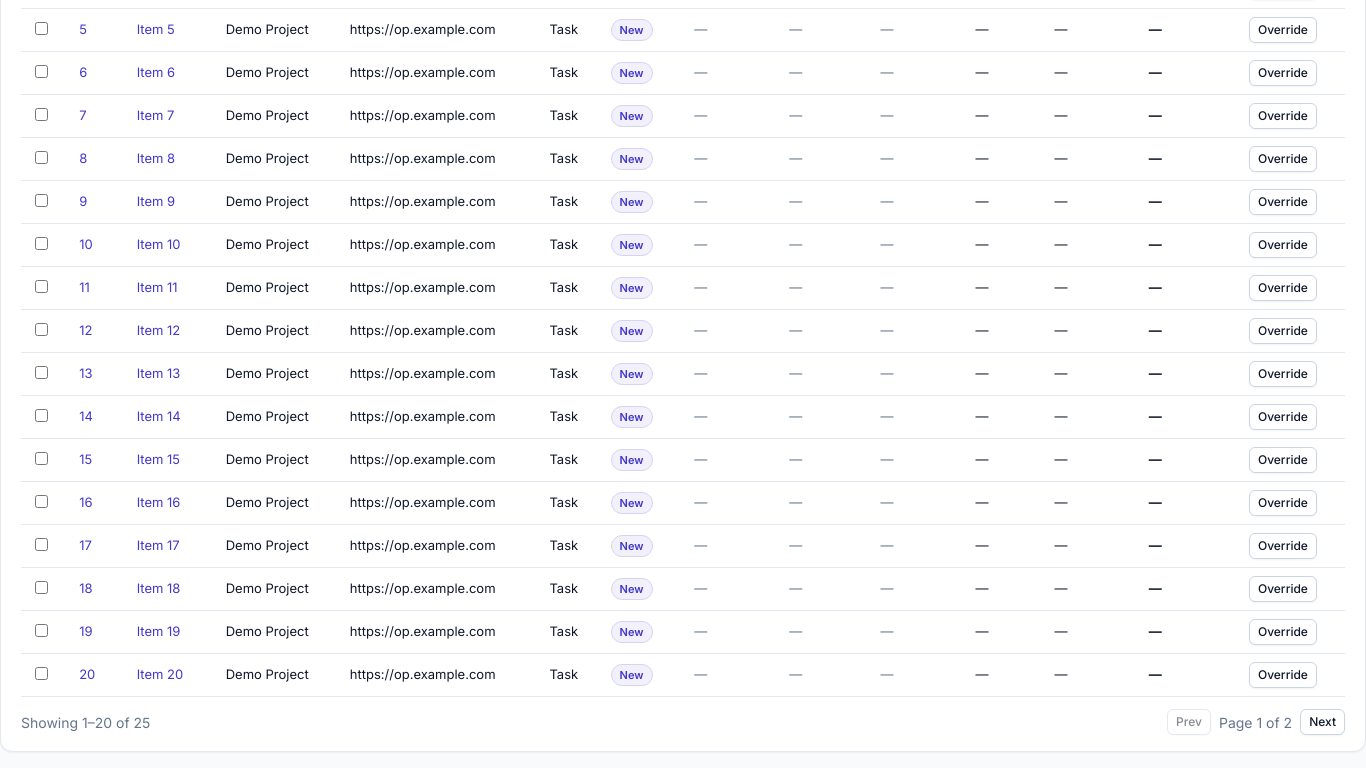
Test: BacklogScreen › changes the page size and resets to page 1
(page scrolled)
// Move off page 1 first.
Click the button with aria-label "Next page". click: [1323, 722]
box: x1=1300 y1=709 x2=1345 y2=735
(page scrolled)
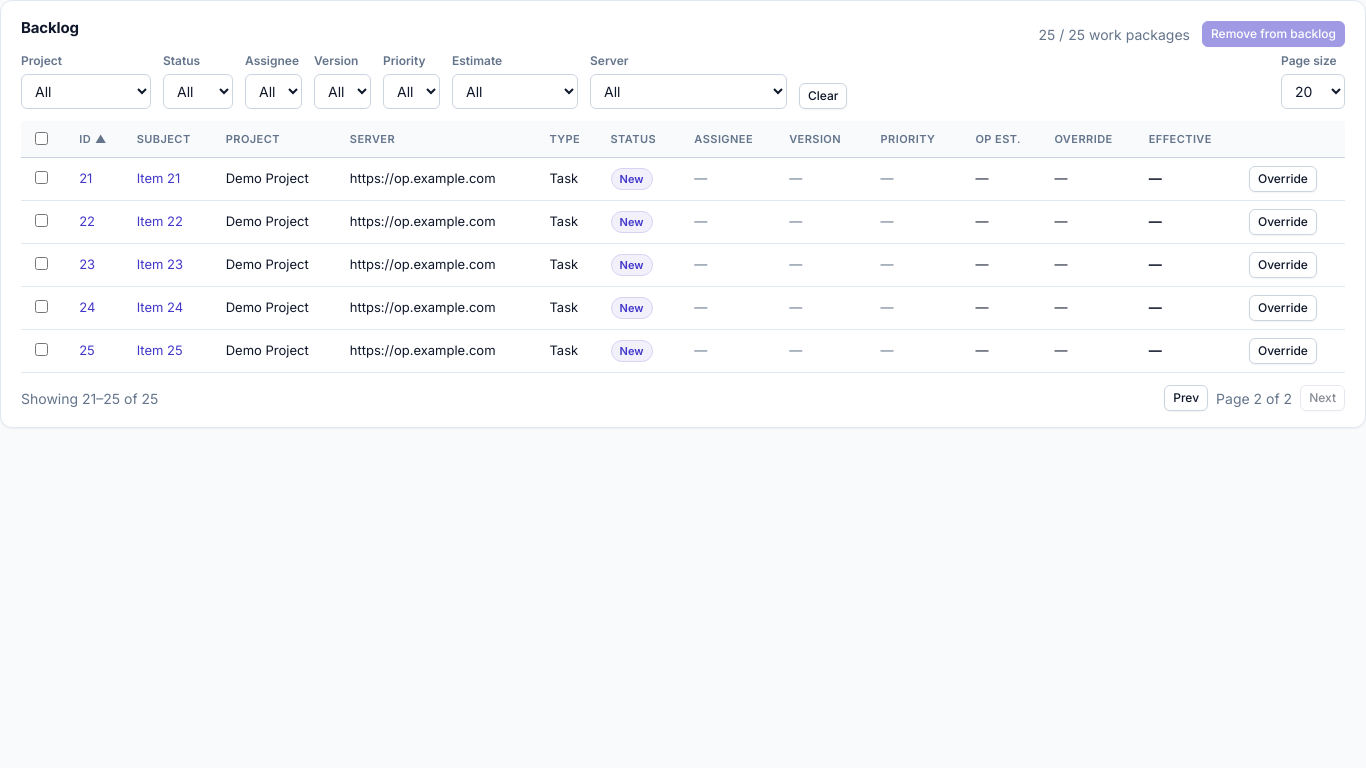
Expected: the text named "page indicator" reads "Page 2 of 2", x1=1216 y1=388 x2=1292 y2=408
Select "5" in the dropdown labelled "Page size". click: [1313, 91]
box: x1=1281 y1=74 x2=1345 y2=108
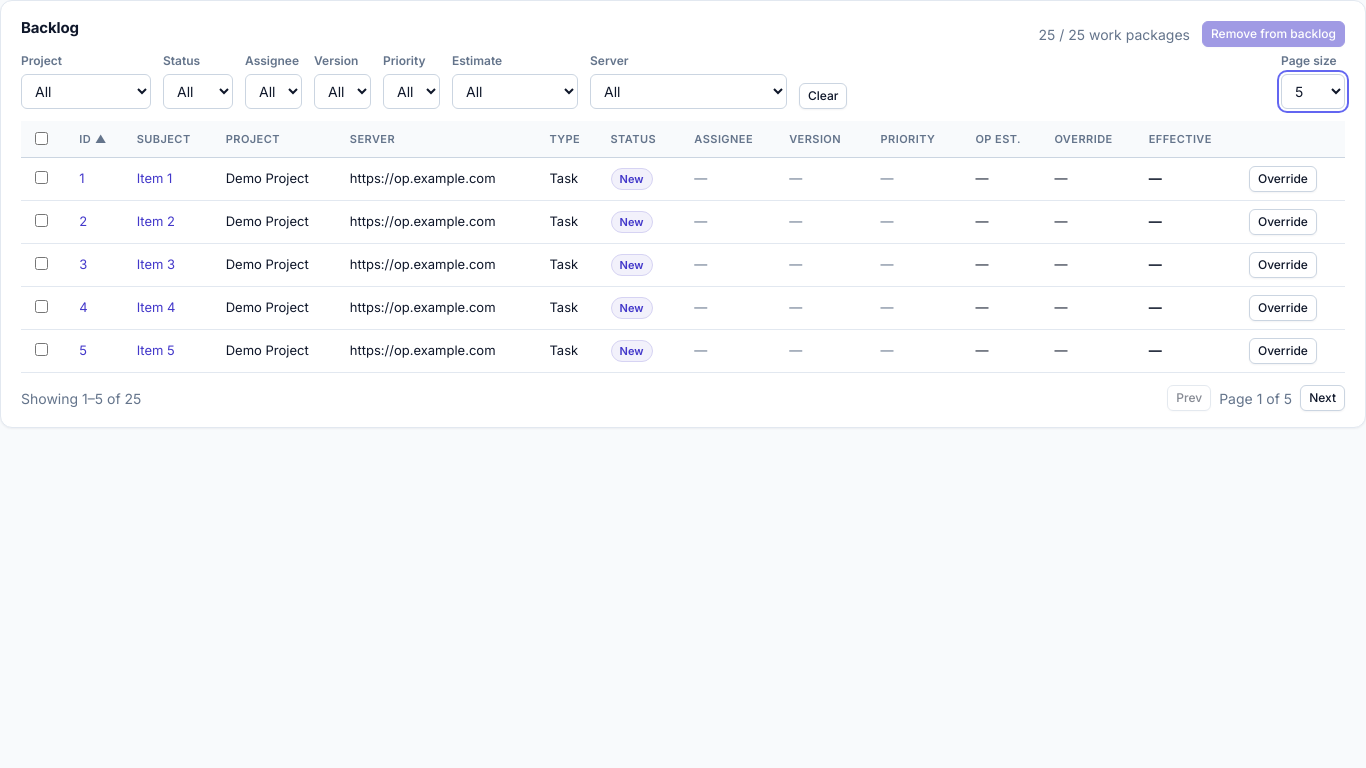
Expected: the text named "showing range" reads "Showing 1–5 of 25", x1=21 y1=388 x2=141 y2=408
Expected: the text named "page indicator" reads "Page 1 of 5", x1=1219 y1=388 x2=1292 y2=408
Expected: the link "Item 1" is shown, x1=137 y1=170 x2=172 y2=186
